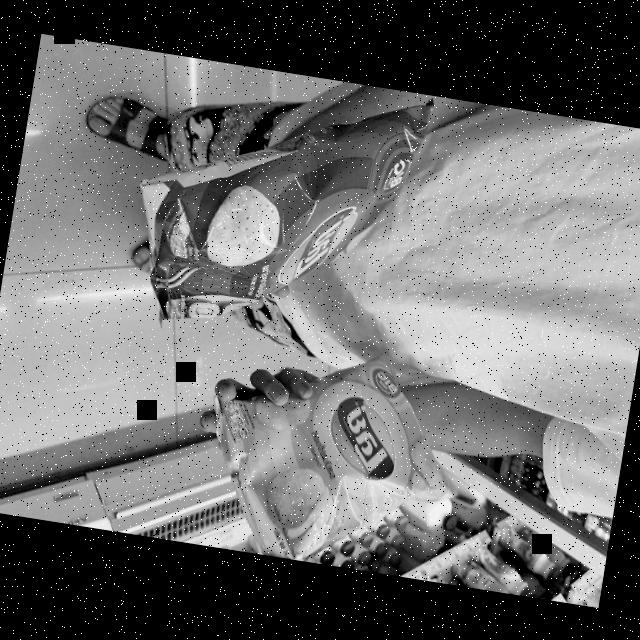snack_bag: (108, 55, 450, 368), (186, 324, 480, 582)
